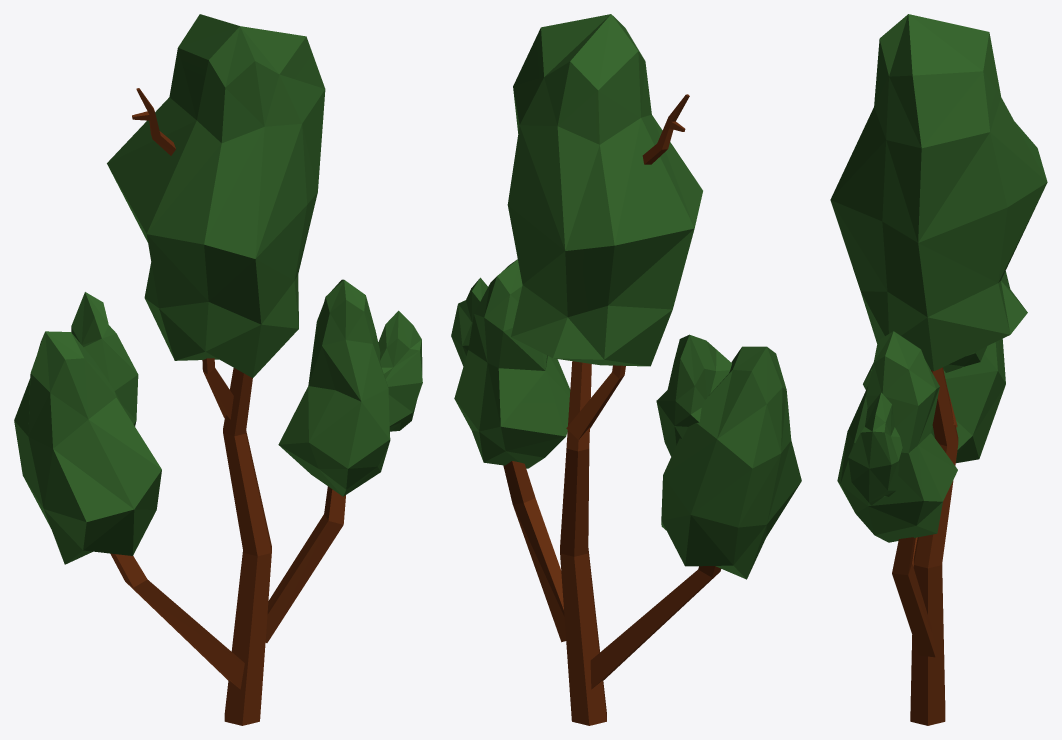
File: TemperateTree_10.glb
3 views of the same model, side by side, from view 1: azimuth 30°, elevation 25°; view 2: azimuth 150°, elevation 25°; view 3: azimuth 270°, elevation 25° (orthographic).
Visible parts, largest first — view 1: Tree_temp_climate_010; view 2: Tree_temp_climate_010; view 3: Tree_temp_climate_010.
Boxes of the visible parts, x1=… form: Tree_temp_climate_010: x1=14, y1=14, x2=422, y2=725; Tree_temp_climate_010: x1=451, y1=14, x2=801, y2=725; Tree_temp_climate_010: x1=830, y1=14, x2=1047, y2=725.
Size of the model in its own units: 3.07 by 5.7 by 1.61.
Materials: 1 (1 with a texture image).
